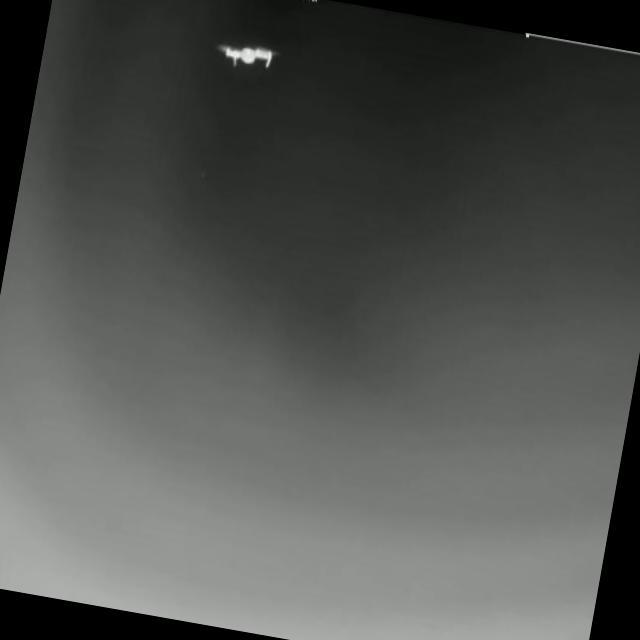DRONE: (216, 32, 282, 74)
